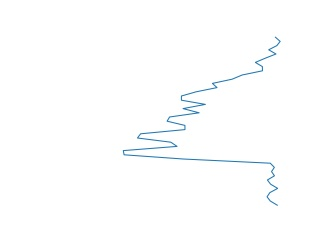proximalDeepseaFan: (120, 34, 286, 207)
